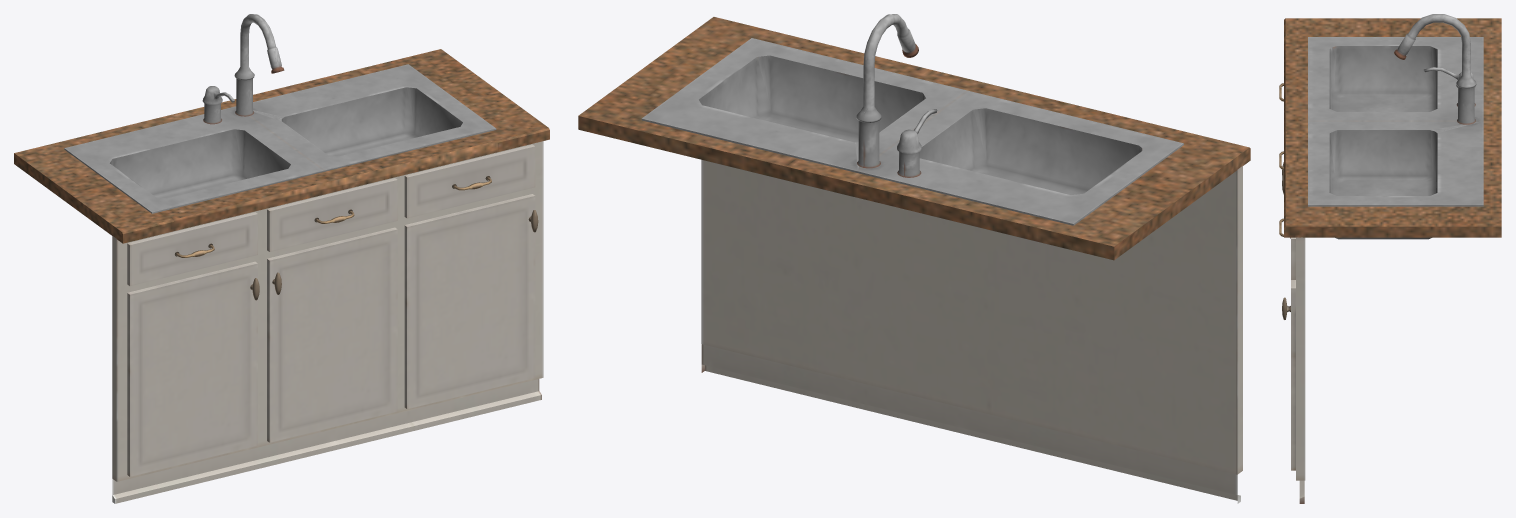
File: KitCabinet_Lo_1½x_Sink.FBX
3 renders of one model, left to right at view 1: azimuth 30°, elevation 25°; view 2: azimuth 150°, elevation 25°; view 3: azimuth 270°, elevation 25°, orthographic. The views are drawn at different scales.
Visible parts, largest first — view 1: KitCabinet_Lo_1½x_Sink; view 2: KitCabinet_Lo_1½x_Sink; view 3: KitCabinet_Lo_1½x_Sink.
Part boxes in pixels (x1,y1,x2,y2): KitCabinet_Lo_1½x_Sink: (14,14,549,503); KitCabinet_Lo_1½x_Sink: (578,14,1250,503); KitCabinet_Lo_1½x_Sink: (1279,14,1501,503).
Bounding box in the file's own units: 150 × 129 × 67.59.
